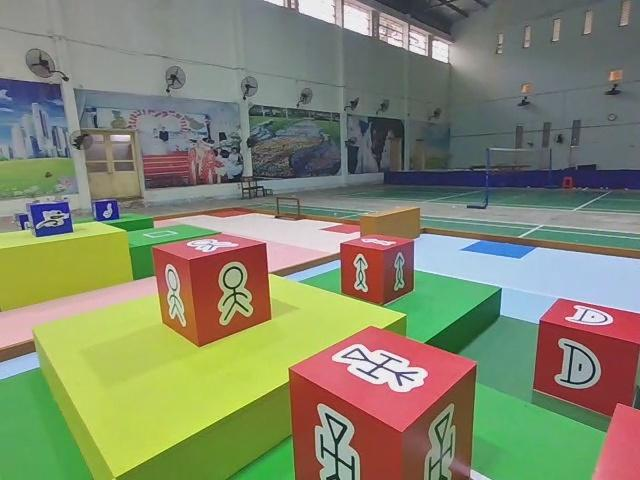R2 Real: (285, 325, 479, 480), (150, 231, 274, 346), (535, 295, 640, 421), (340, 233, 415, 307)
